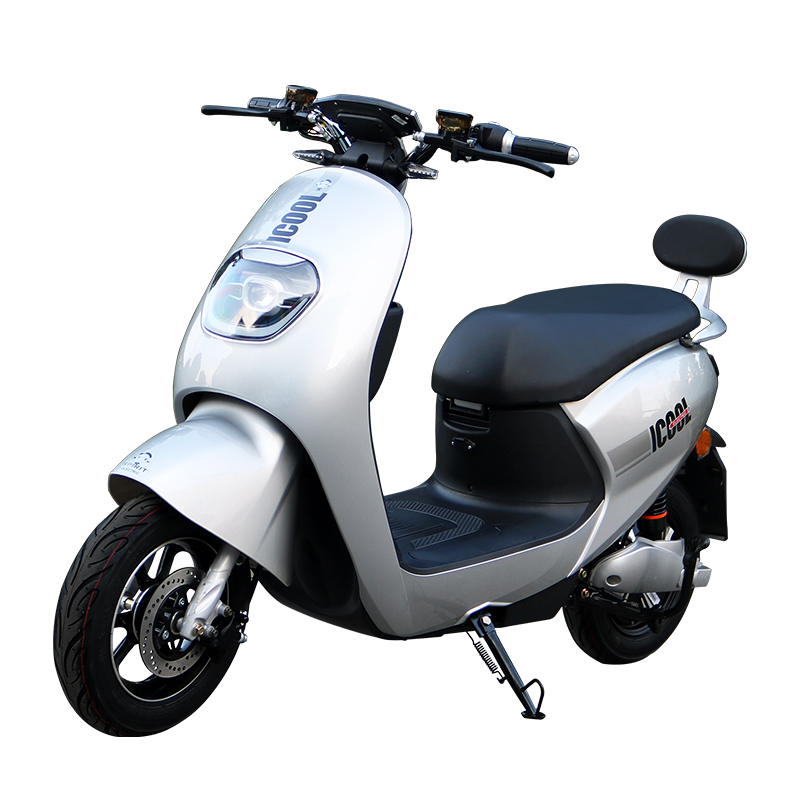电动车: (51, 72, 769, 750)
